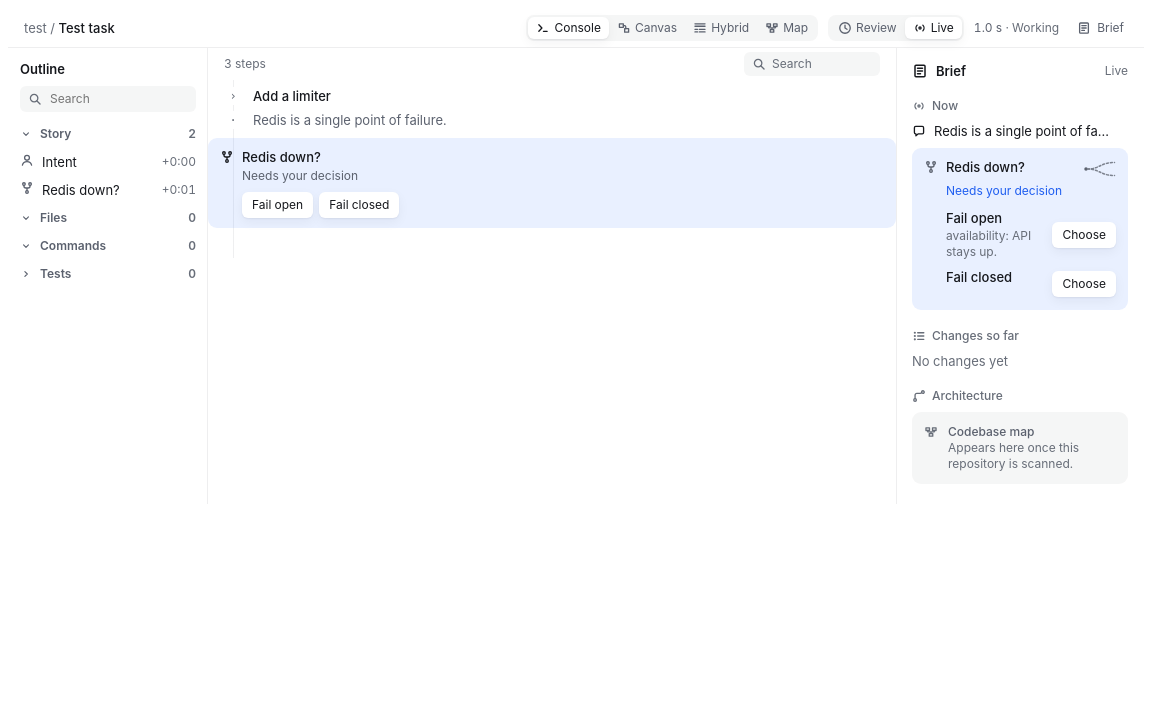
Scenario: focus when a card moves from open to decided (lane 07 S-4 fix I-2) › pointer Choose, then a click on empty space outside the Brief: a later Brief commit leaves focus alone
Expected: the element named "Decision card: Redis down?" is shown, 912,148 -> 1128,310
Click the button with aria-label "Choose Fail open" at (1084, 235), box 1052,222 -> 1116,248
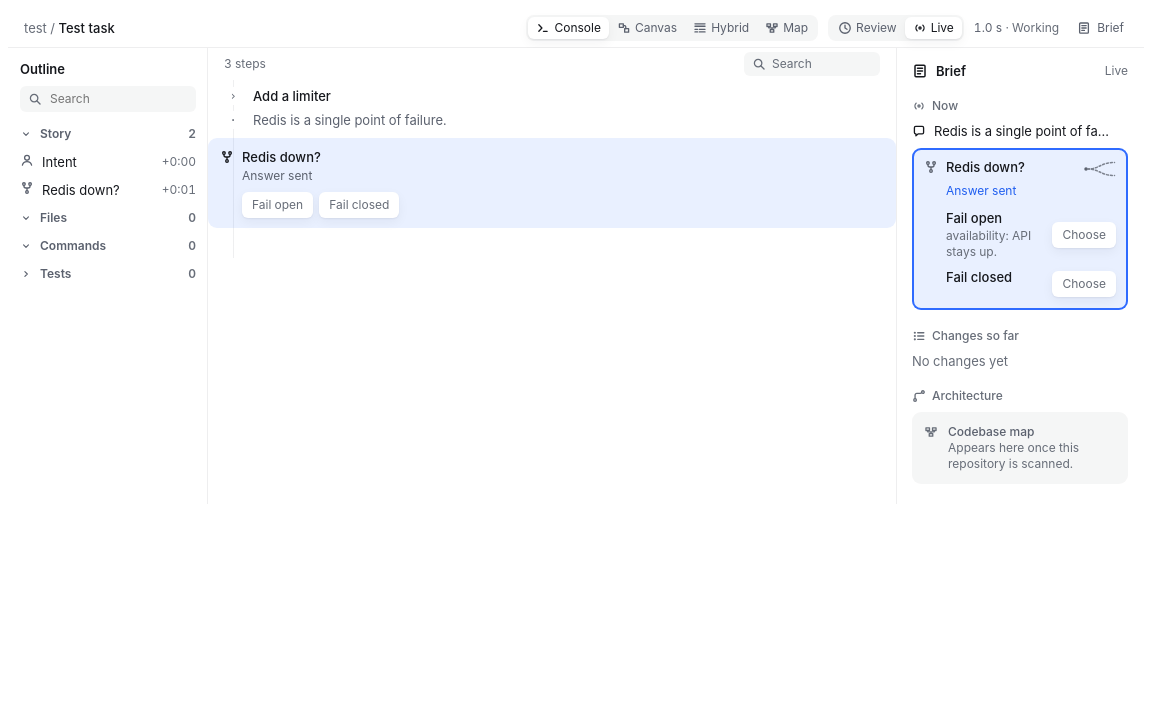
Expected: the text "Answer sent" below "Now" is shown, 946,184 -> 1016,198
Click the element that starts with "test" at (576, 256), box 8,8 -> 1144,504
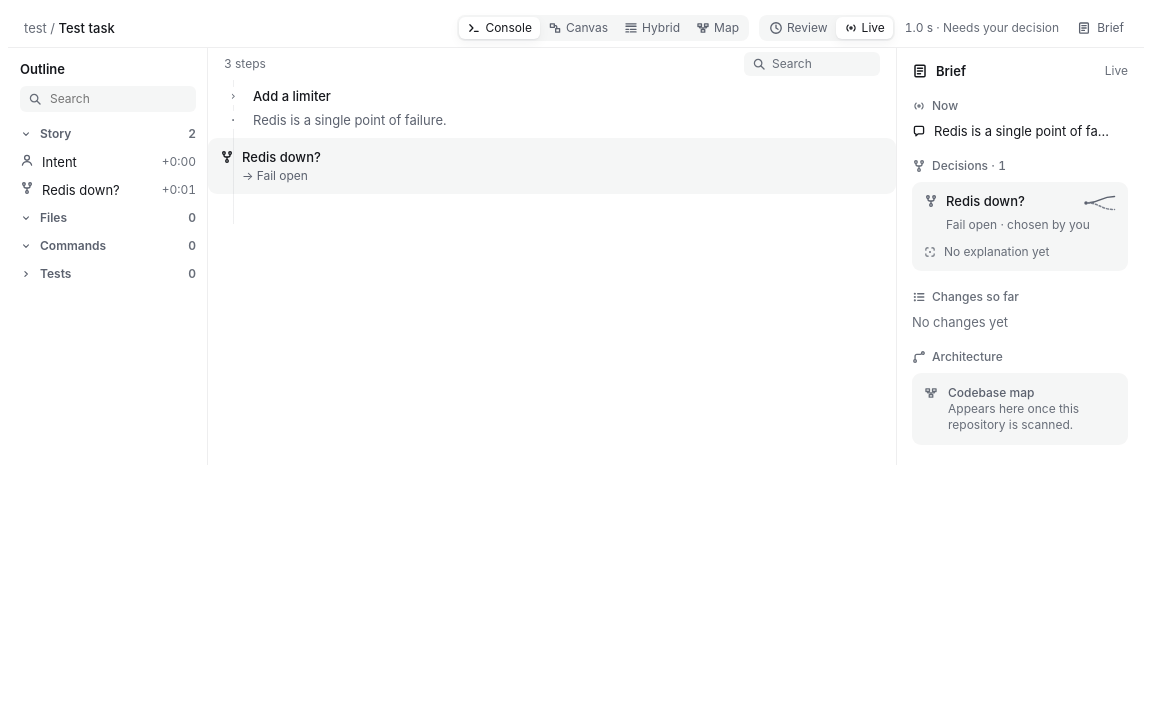
Expected: the text "Fail open · chosen by you" is shown, 946,218 -> 1090,232
